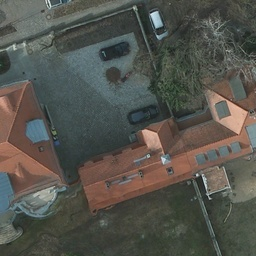car: (148, 6, 170, 40), (128, 106, 160, 122), (100, 42, 130, 59), (39, 1, 74, 8)
